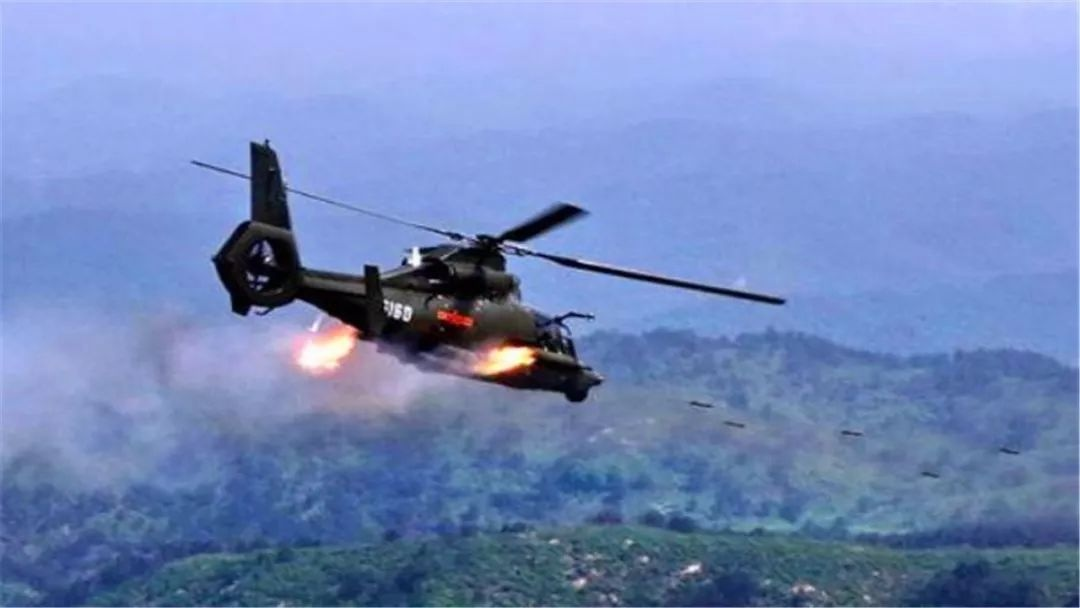airplane: (176, 129, 789, 403)
